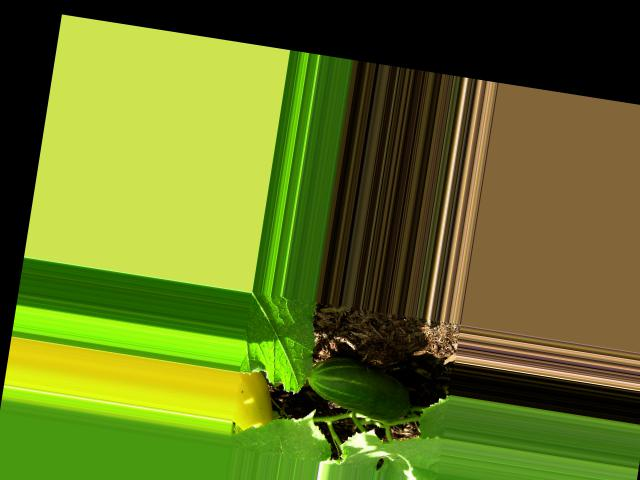cucumber: (303, 351, 417, 425)
